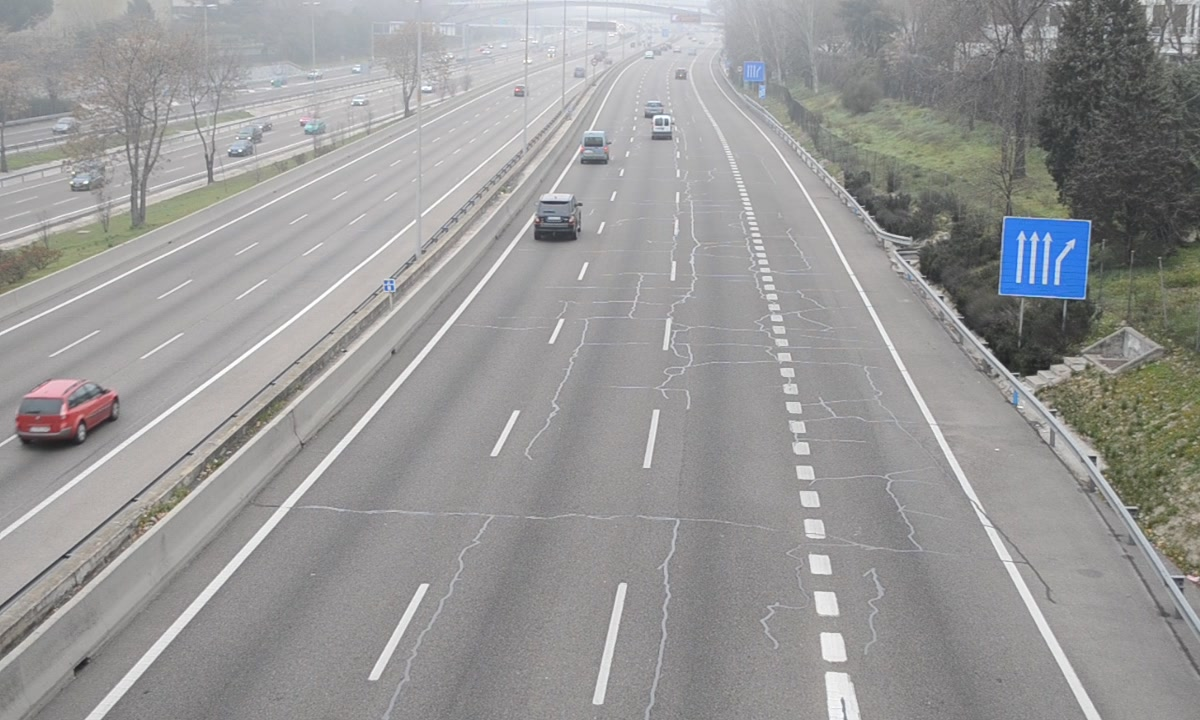car: (534, 194, 580, 237)
van: (580, 130, 611, 166)
